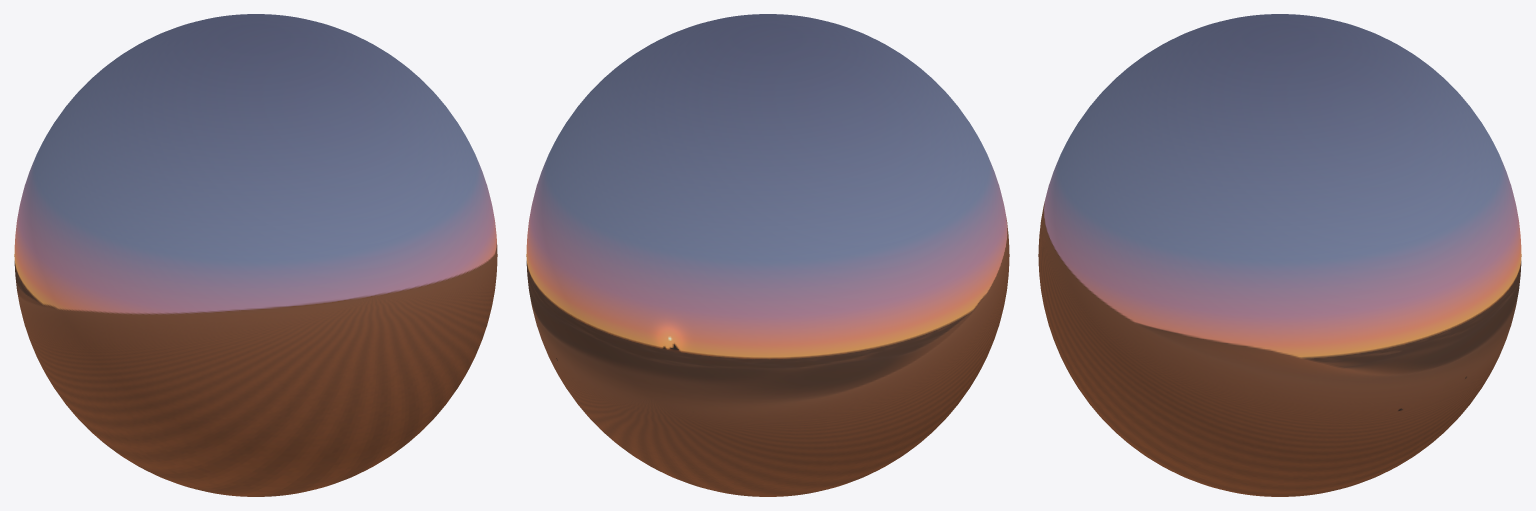
Rendered from world-black-pyramids.glb.
The picture shows the model from 3 angles, left to right: view 1: azimuth 30°, elevation 25°; view 2: azimuth 150°, elevation 25°; view 3: azimuth 270°, elevation 25°; orthographic projection.
Parts seen in each view (by area): view 1: Panorama_background; view 2: Panorama_background; view 3: Panorama_background.
Boxes of the visible parts, x1,y1,x2,y2 form: Panorama_background: (14, 14, 497, 496); Panorama_background: (526, 14, 1009, 496); Panorama_background: (1038, 14, 1521, 496).
Bounding box in the file's own units: 480 × 480 × 480.
Materials: 5 (1 with a texture image).
